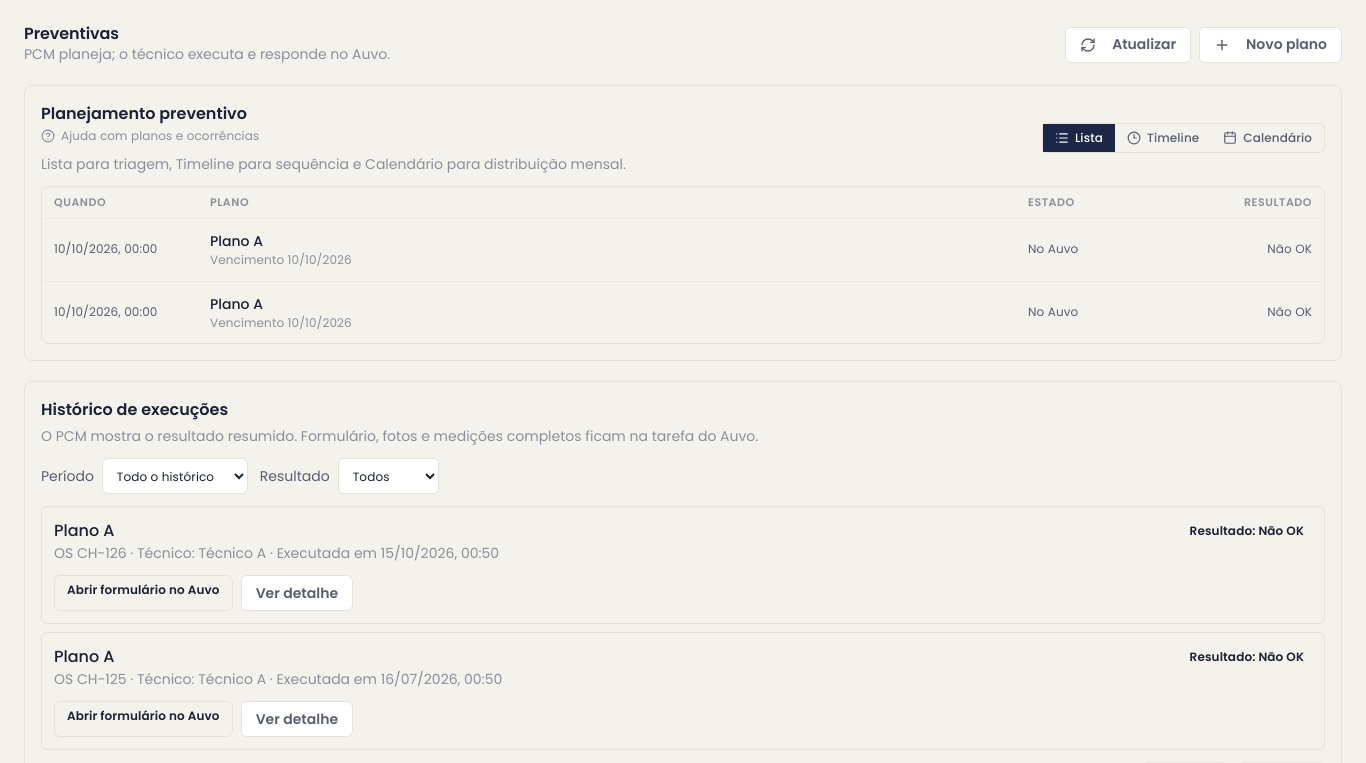
Test: PreventivasWorkspace — E01-S53 / E01-S163 AC-10 e AC-15 › filtra o histórico pelo período da execução
Select "Últimos 30 dias" in the dropdown named "Filtrar histórico por período" at (175, 476), box [102,458,248,494]
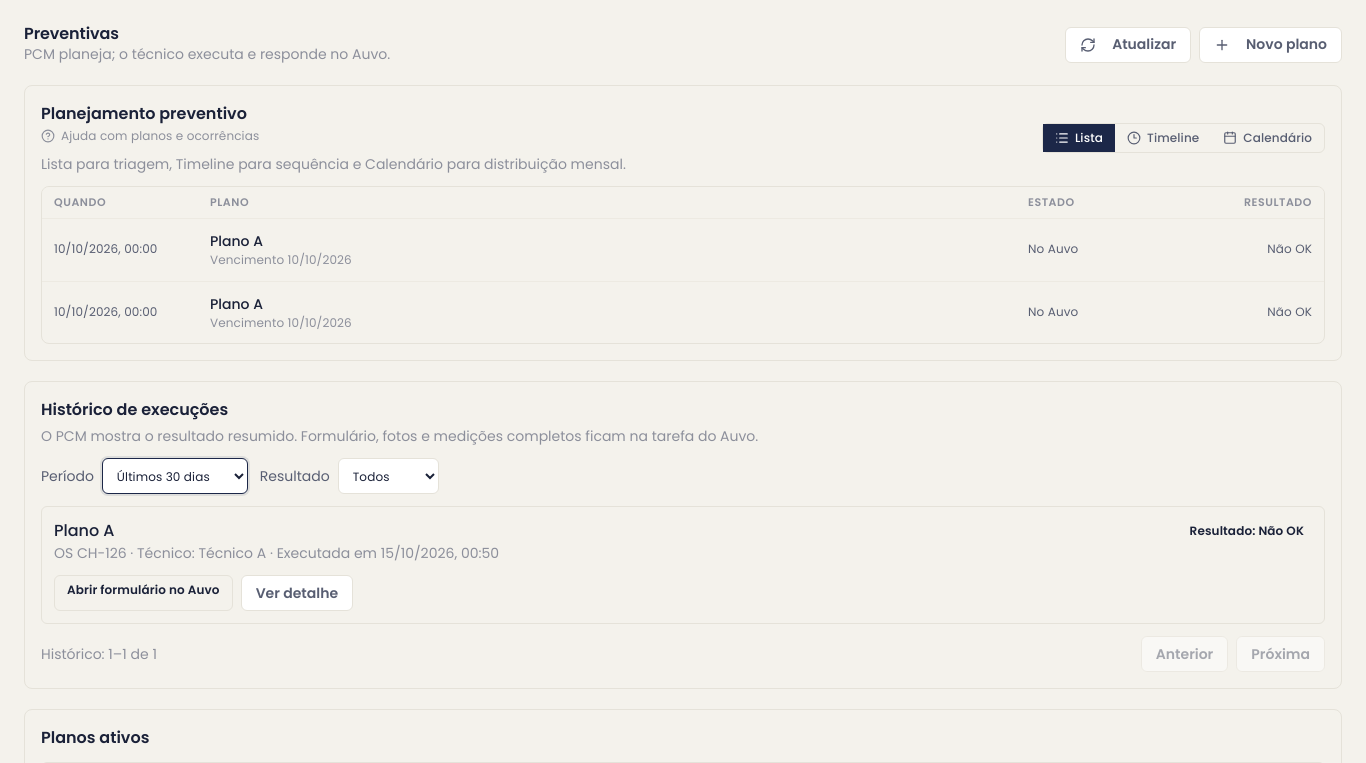
Expected: the text "OS CH-126" is shown, [54,543,127,563]
Expected: the text "Histórico: 1–1 de 1" is shown, [41,644,157,664]
Expected: the text "OS CH-125" is gone
